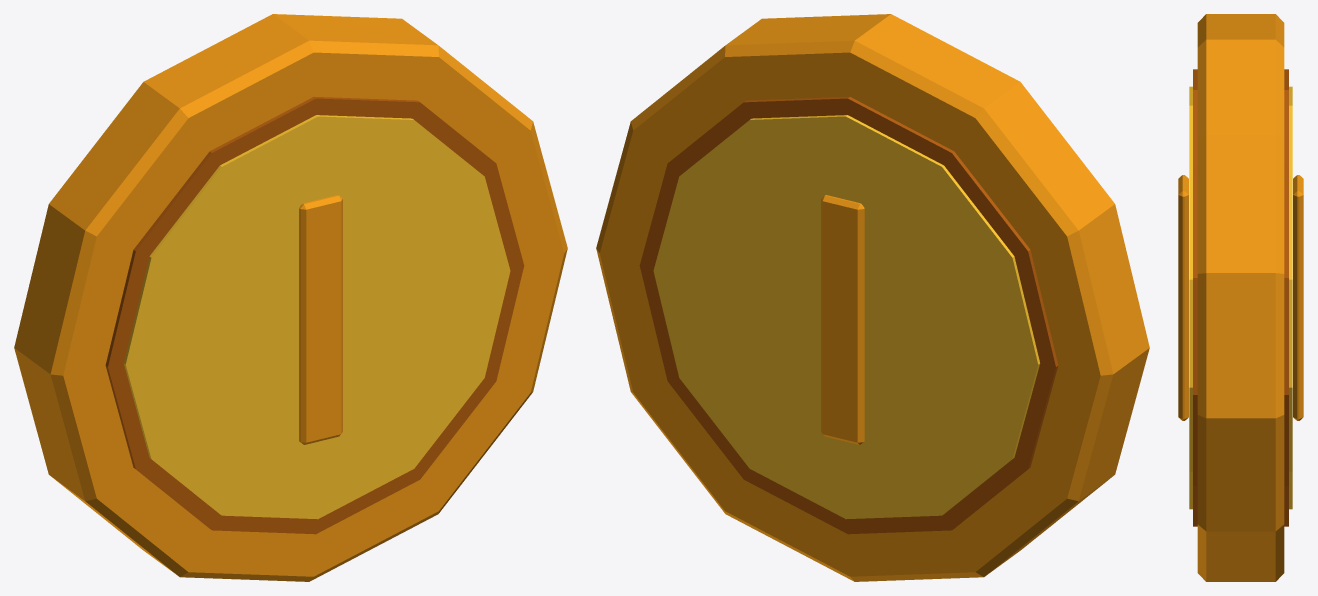
File: moeda-blockie.fbx
The picture shows the model from 3 angles, left to right: view 1: azimuth 30°, elevation 25°; view 2: azimuth 150°, elevation 25°; view 3: azimuth 270°, elevation 25°; orthographic projection. The views are drawn at different scales.
Visible parts, largest first — view 1: moeda-blockie; view 2: moeda-blockie; view 3: moeda-blockie.
Part boxes in pixels (x1,y1,x2,y2): moeda-blockie: (14, 14, 567, 581); moeda-blockie: (596, 14, 1149, 581); moeda-blockie: (1178, 14, 1303, 581).
Size of the model in its own units: 164 by 164 by 36.
1 material, 1 textured.
